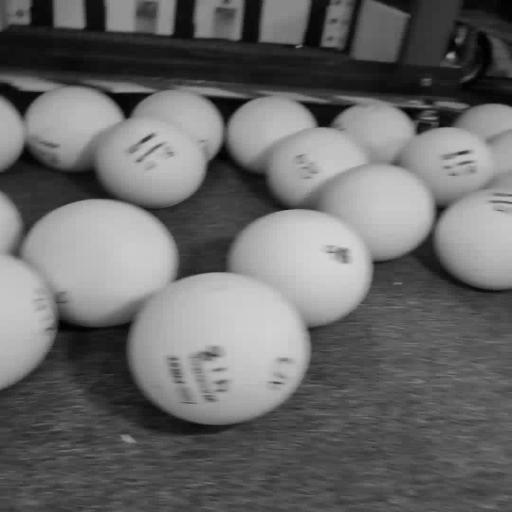fuel: (127, 272, 310, 425), (20, 200, 179, 327), (228, 209, 373, 327), (316, 164, 436, 261), (95, 117, 209, 208), (24, 86, 125, 172), (266, 128, 369, 208), (433, 188, 511, 290), (0, 253, 58, 389), (399, 128, 494, 206), (226, 96, 317, 173), (131, 90, 224, 160), (330, 102, 416, 163), (453, 104, 511, 141), (0, 96, 25, 172), (0, 192, 24, 253), (489, 130, 511, 175), (488, 172, 511, 187)
